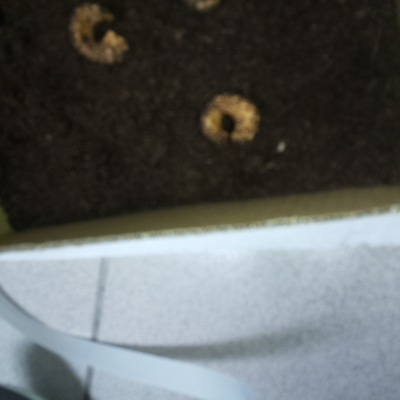eggs: (56, 1, 134, 72), (194, 88, 262, 151)
